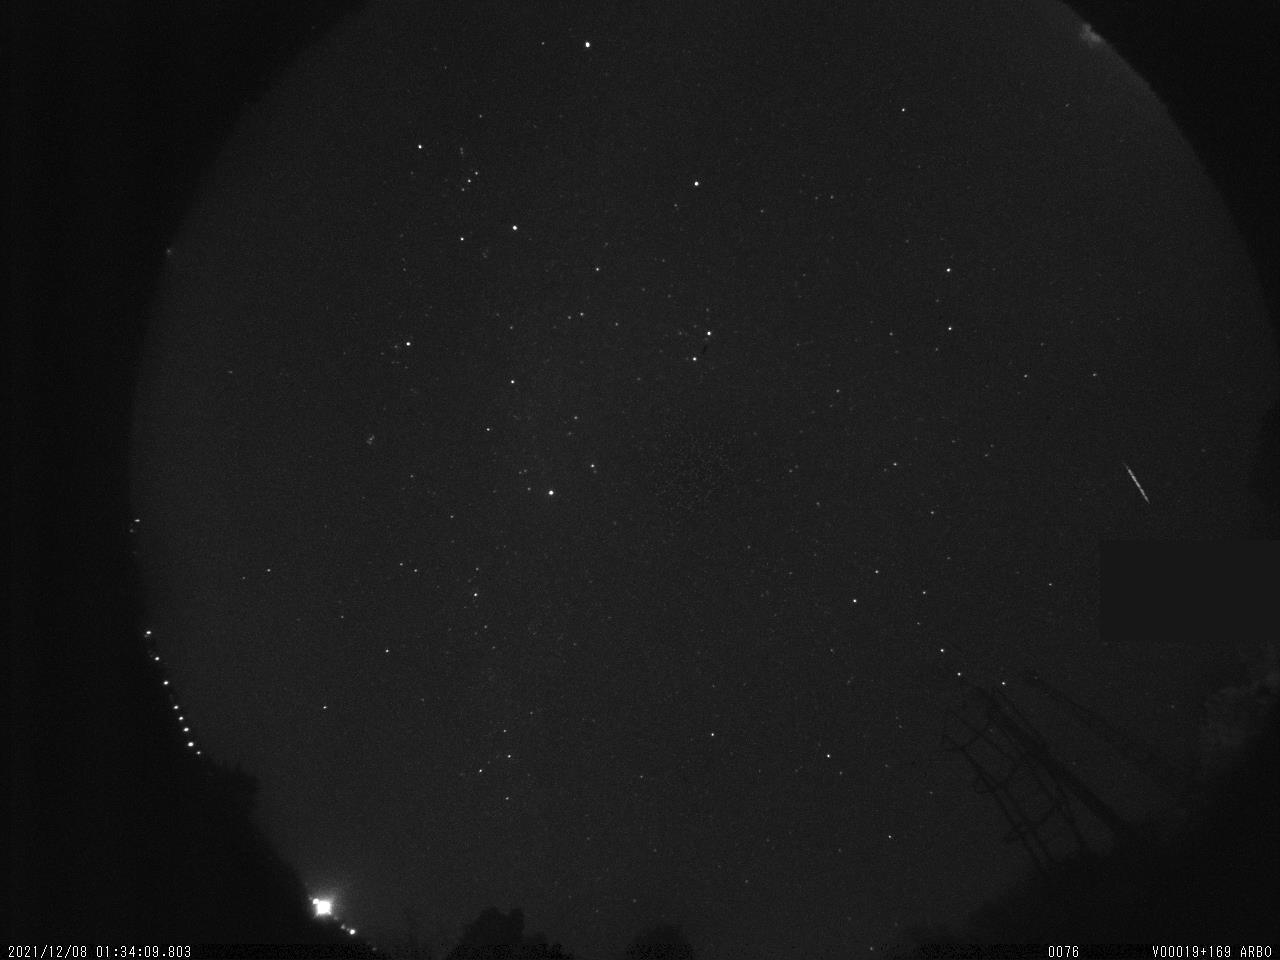meteor: (1109, 454, 1168, 509)
